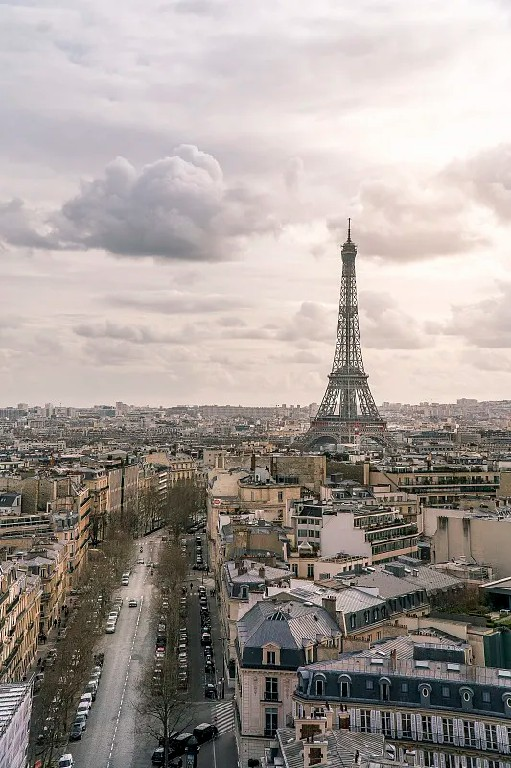Eiffel: (286, 219, 395, 452)
